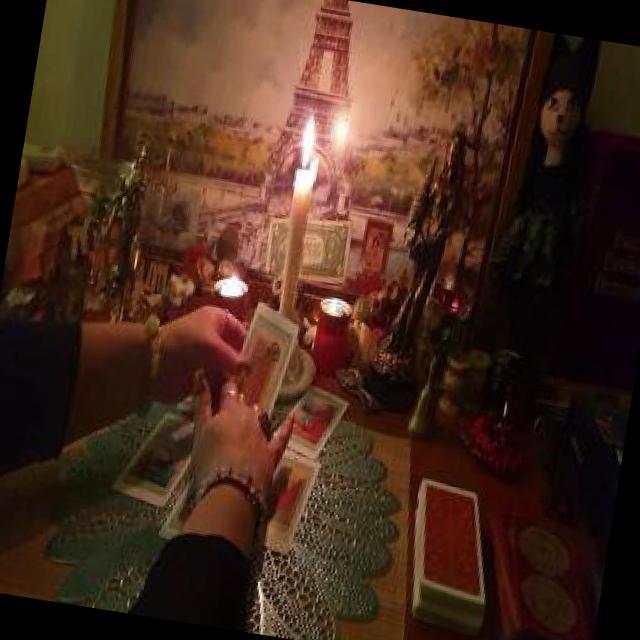Fire: (292, 106, 324, 178)
